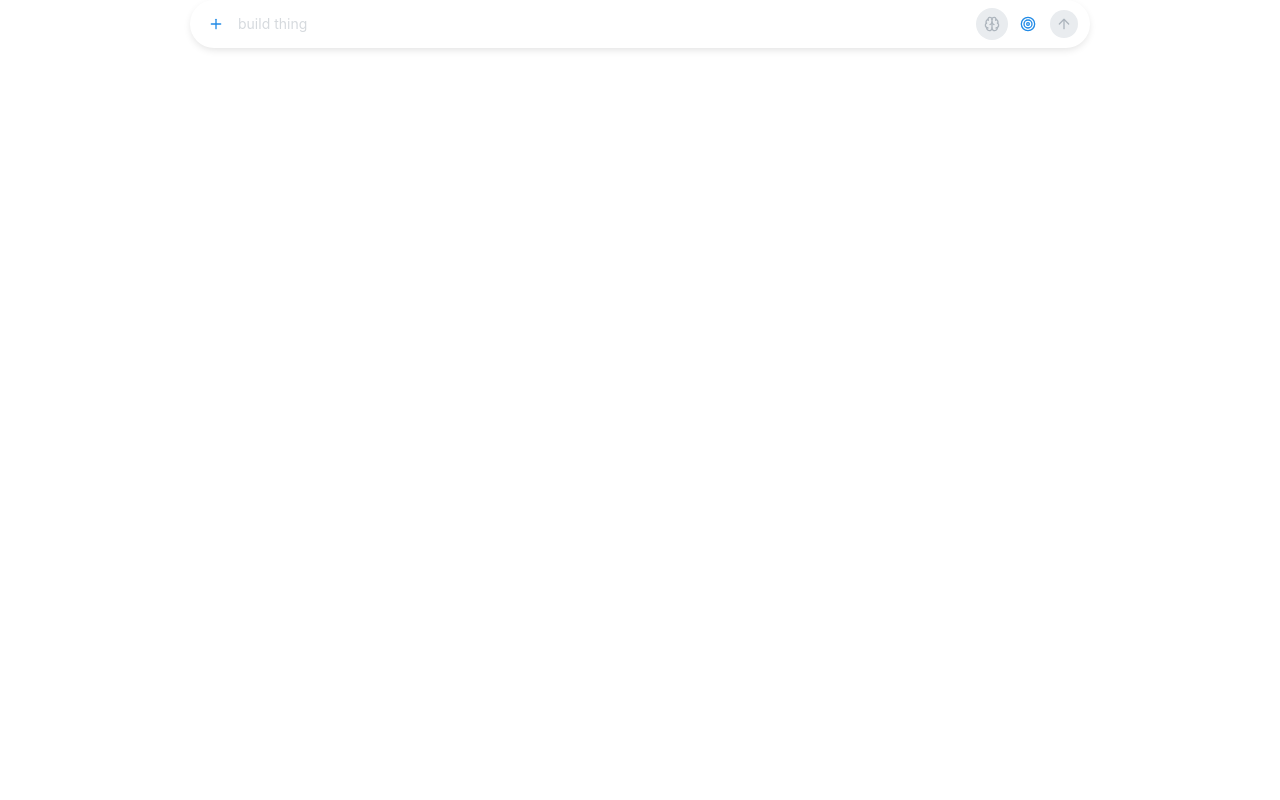
composer goals › keeps a paused goal accessible through the narrow icon (touch=false)
Expected: the text "Finish the dashboard" is not shown
What coordinates should you click on to do the following:
click the button named "Manage goal: Paused"
I would click on:
 (1028, 24)
Its box is [1012,8,1044,40].
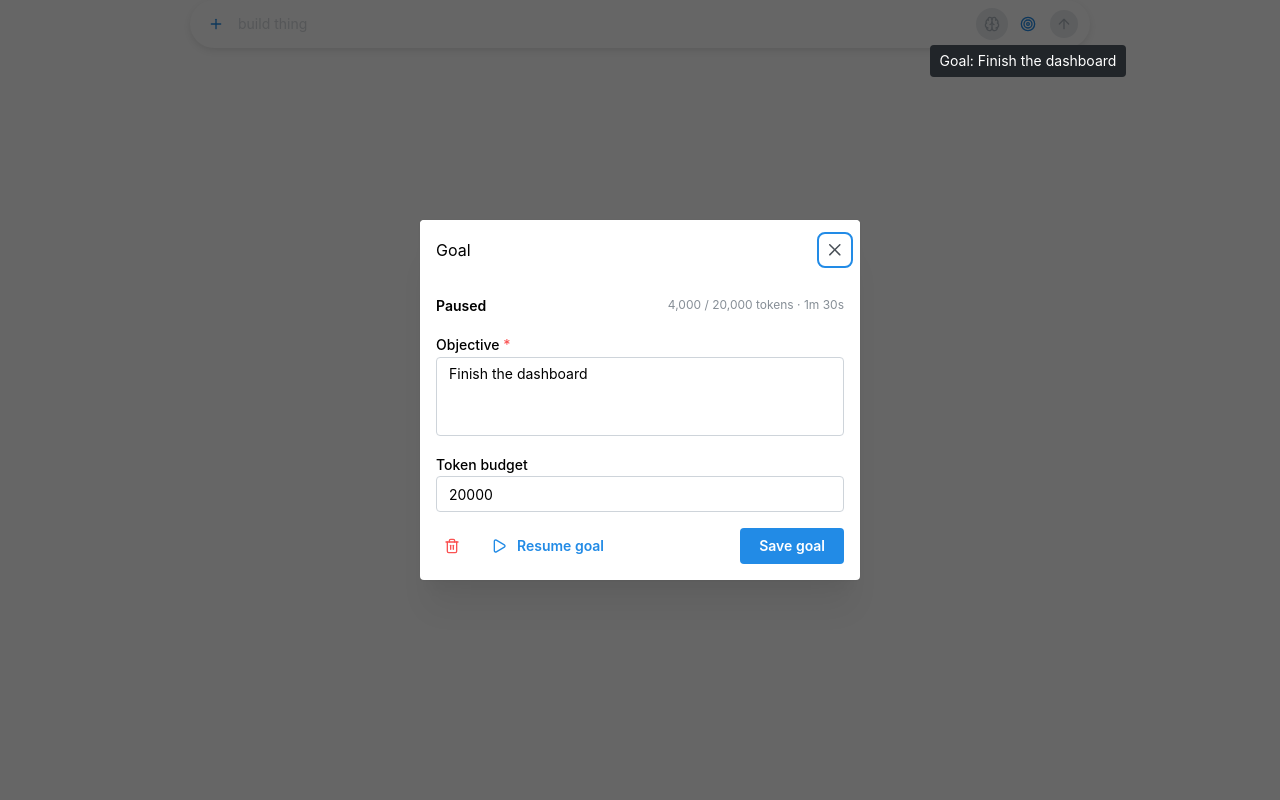
Now the dialog "Goal" is shown, box [420,220,860,580]
Now the button "Resume goal" is shown, box [478,528,623,564]
